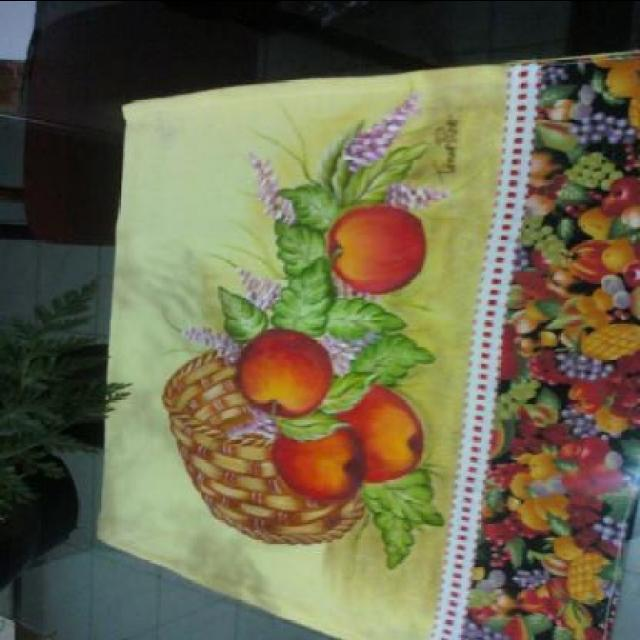Apple pie: (332, 384, 423, 486), (335, 205, 427, 302), (270, 412, 366, 504), (240, 326, 332, 418), (582, 464, 630, 493), (608, 170, 640, 208), (572, 438, 606, 467), (621, 264, 639, 286)
